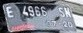plate: (3, 1, 78, 33)
